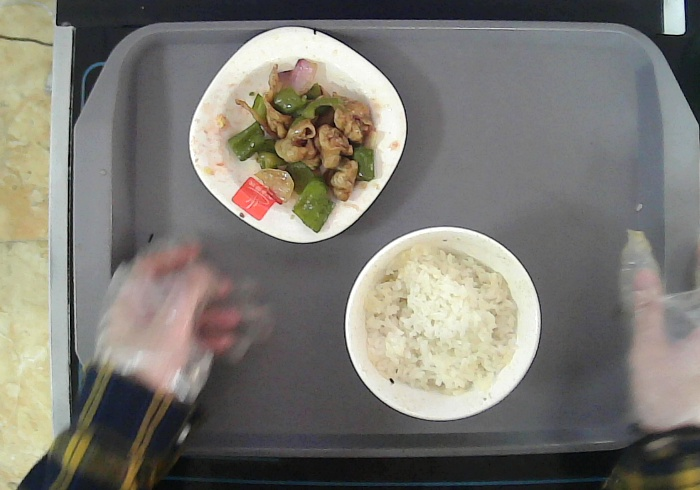SHKJ-Bai_Se_Si_Fang_Cai_Die: (187, 24, 412, 247)
SHKJ-Fan_Wan: (343, 223, 545, 423)
